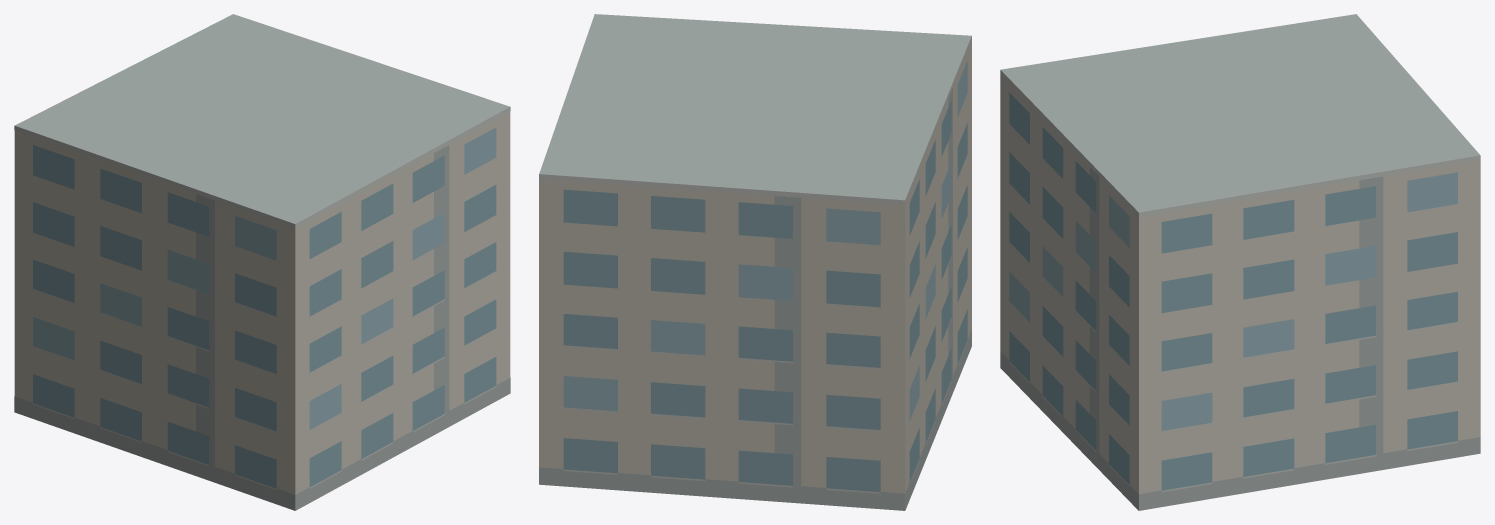
Rendered from survey-upis-32763607.glb.
3 views of the same model, side by side, from view 1: azimuth 30°, elevation 25°; view 2: azimuth 150°, elevation 25°; view 3: azimuth 270°, elevation 25° (orthographic). The views are drawn at different scales.
Parts seen in each view (by area): view 1: survey-upis-32763607.tmp; view 2: survey-upis-32763607.tmp; view 3: survey-upis-32763607.tmp.
Boxes of the visible parts, left/top/right/bottom form: survey-upis-32763607.tmp: left=14, top=14, right=510, bottom=510; survey-upis-32763607.tmp: left=539, top=14, right=971, bottom=510; survey-upis-32763607.tmp: left=1000, top=14, right=1480, bottom=510.
Size of the model in its own units: 21.78 by 15.25 by 22.26.
